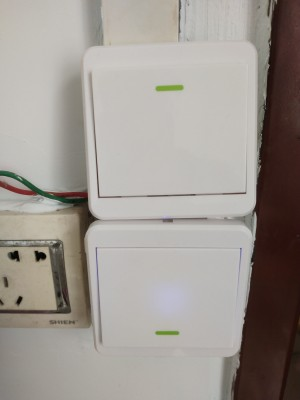switch: (89, 53, 257, 200), (93, 239, 243, 353)
